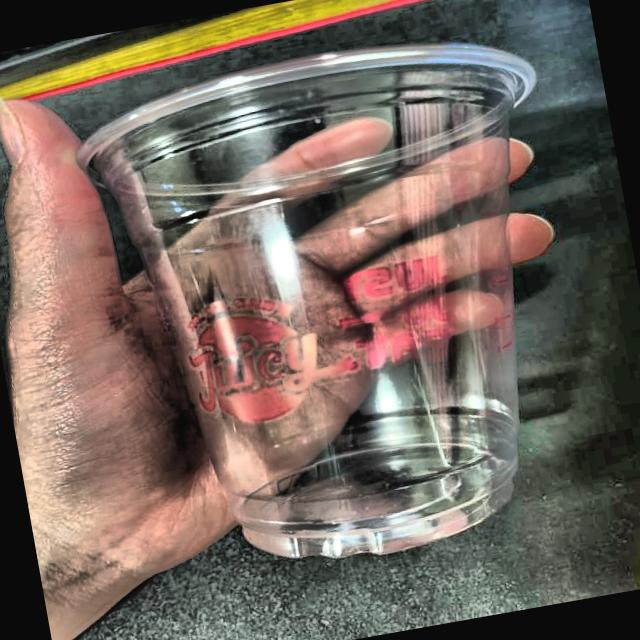plastic cup: (61, 13, 616, 600)
